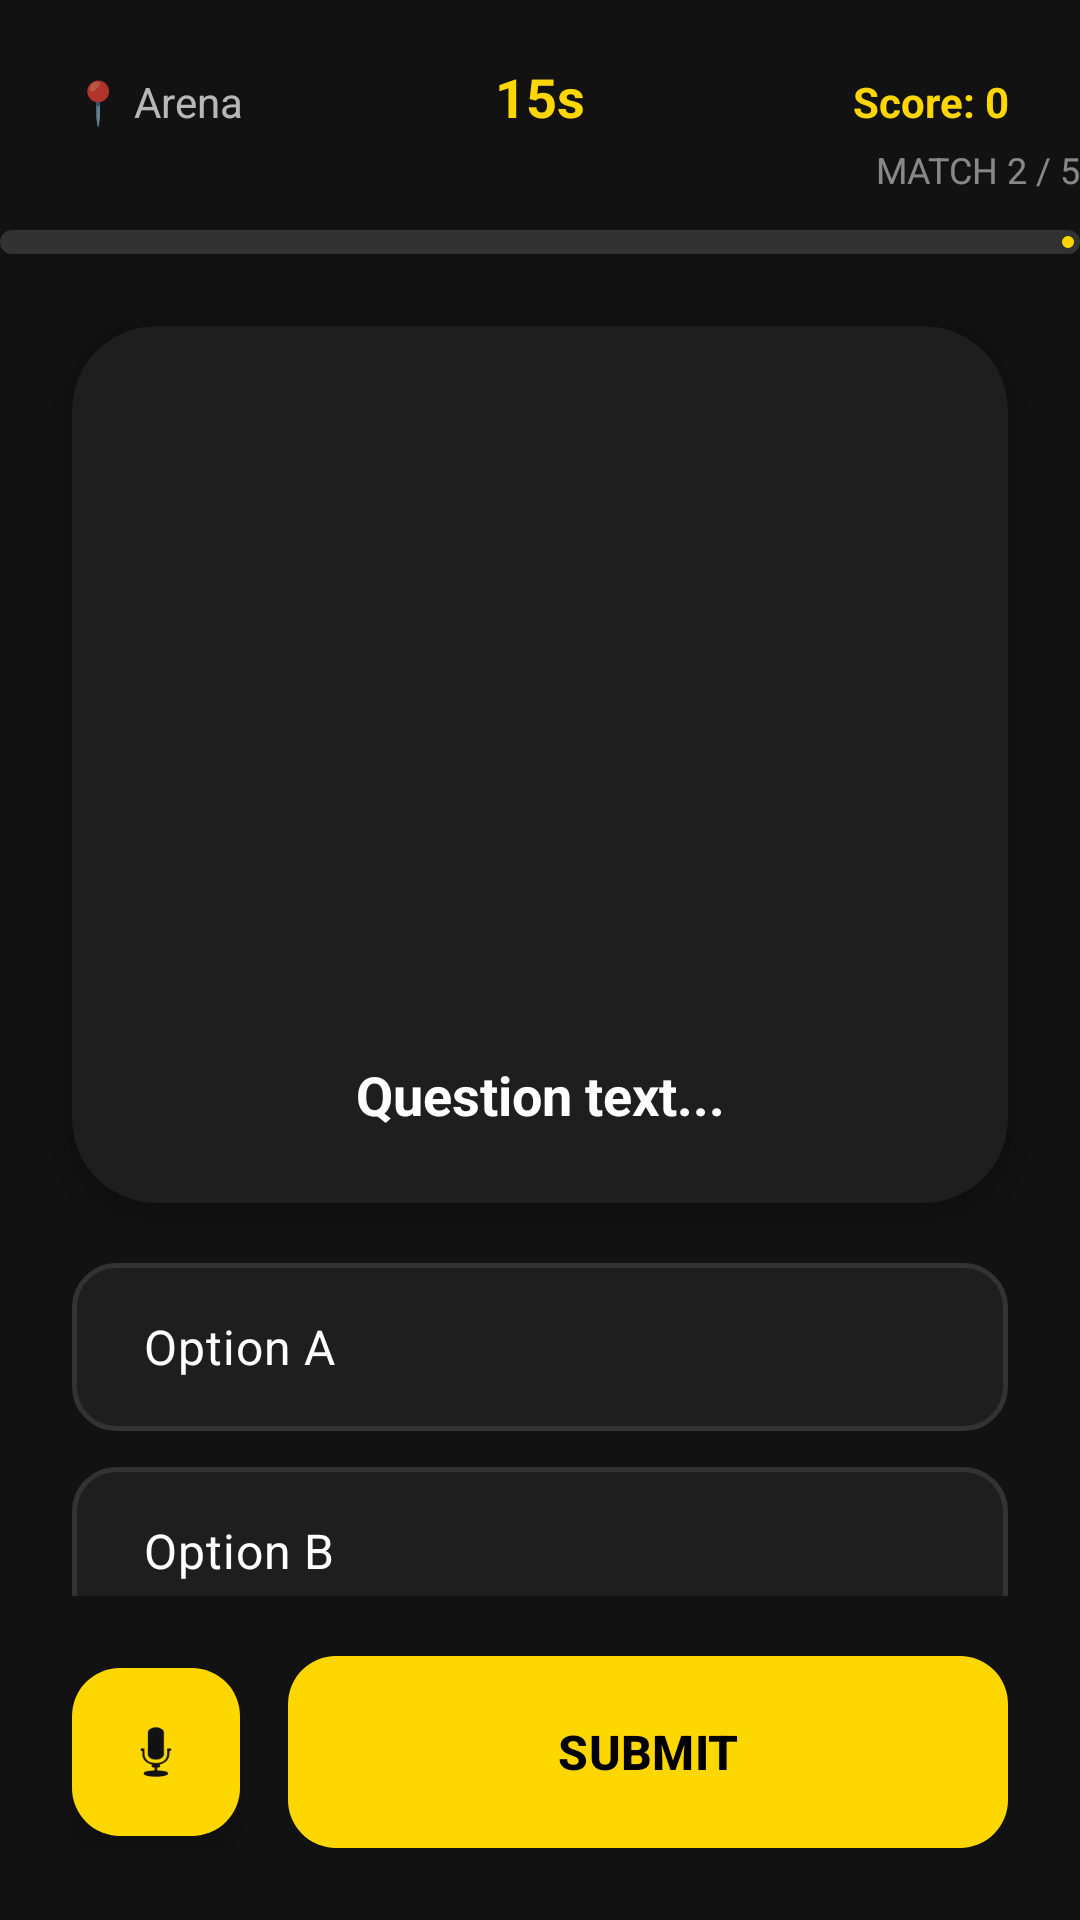

Named icons in this screenshot (1080px x 1920px) and their centers, (x=x, y=y):
speak now: (x=156, y=1752)
